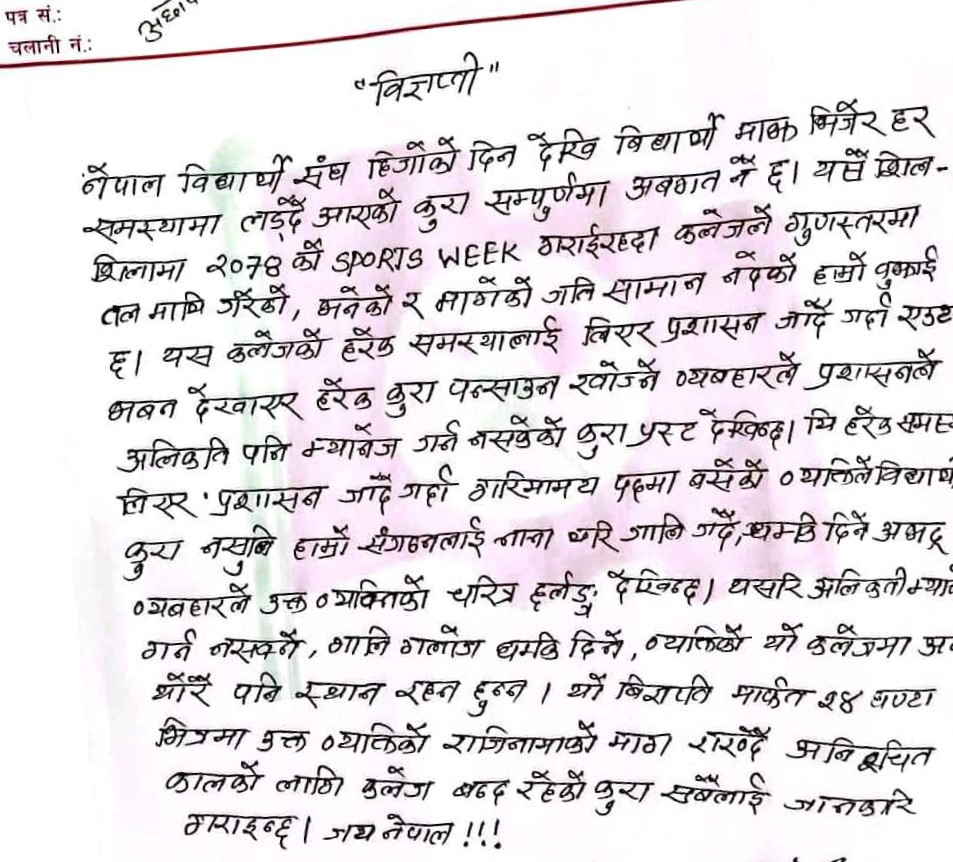text: (775, 453, 953, 494), (370, 47, 486, 106), (481, 170, 608, 223), (783, 199, 922, 247), (437, 719, 604, 757), (403, 319, 568, 357), (786, 735, 934, 775), (532, 219, 665, 262), (357, 515, 490, 558), (811, 346, 940, 389), (182, 379, 305, 424), (659, 768, 772, 815), (131, 580, 254, 623), (669, 352, 803, 391), (785, 785, 922, 823), (178, 151, 291, 195), (467, 467, 601, 504), (316, 572, 434, 613), (611, 111, 725, 153), (113, 436, 235, 475), (182, 810, 298, 851), (197, 522, 281, 577), (81, 210, 224, 242), (434, 273, 535, 318), (320, 719, 435, 758), (365, 133, 460, 180), (803, 621, 914, 661), (605, 563, 699, 609), (307, 187, 402, 232), (221, 325, 327, 365), (464, 413, 572, 452), (697, 405, 788, 451), (670, 206, 772, 247), (444, 370, 560, 405), (301, 422, 402, 462), (564, 357, 660, 398), (209, 625, 305, 665), (811, 563, 908, 602), (86, 252, 188, 289), (613, 670, 715, 707), (162, 759, 264, 796), (601, 268, 708, 303), (664, 309, 762, 347), (212, 482, 324, 515), (644, 622, 746, 658), (621, 170, 729, 203), (529, 569, 601, 618), (720, 247, 802, 290), (682, 453, 767, 494), (78, 163, 165, 203), (311, 280, 397, 320), (685, 722, 772, 761), (235, 192, 310, 237), (357, 764, 438, 805), (805, 98, 887, 138), (873, 244, 943, 290), (120, 534, 187, 582), (294, 676, 385, 711), (397, 623, 483, 660), (155, 715, 248, 749), (527, 124, 600, 167), (876, 514, 953, 554), (443, 571, 521, 610), (578, 310, 655, 349), (212, 284, 291, 322), (98, 392, 181, 428), (113, 486, 196, 522), (773, 295, 840, 338), (467, 675, 532, 719), (731, 673, 810, 709), (512, 769, 590, 805), (382, 810, 454, 849), (590, 775, 655, 818), (725, 570, 807, 603), (411, 190, 473, 233), (617, 508, 686, 546), (273, 763, 347, 798), (288, 522, 351, 563), (336, 471, 397, 513), (151, 671, 218, 709), (397, 465, 456, 508), (731, 111, 803, 146), (325, 624, 395, 660), (808, 248, 869, 289), (337, 324, 398, 365), (808, 146, 872, 185), (383, 377, 440, 420), (572, 418, 629, 461), (393, 675, 463, 710), (310, 376, 374, 414), (206, 251, 284, 282), (606, 724, 677, 758), (145, 290, 210, 327), (893, 294, 953, 334), (566, 624, 624, 665), (610, 468, 681, 501), (294, 152, 354, 190), (631, 417, 698, 451), (493, 629, 562, 662), (839, 292, 892, 334), (563, 518, 616, 560), (870, 147, 935, 181), (691, 503, 741, 547), (541, 271, 598, 309), (138, 627, 196, 664), (492, 522, 558, 554), (841, 400, 894, 439), (239, 429, 293, 467), (465, 139, 522, 173), (869, 685, 937, 713), (412, 419, 463, 456), (160, 338, 216, 371), (256, 587, 313, 618), (451, 776, 511, 805), (230, 671, 281, 705), (824, 509, 868, 547), (253, 727, 308, 757), (886, 104, 931, 138), (286, 239, 324, 279), (815, 685, 863, 716), (564, 671, 608, 704), (320, 819, 375, 845), (97, 299, 144, 328), (765, 621, 803, 656), (724, 153, 759, 189), (800, 406, 840, 437), (398, 285, 431, 319), (762, 156, 789, 196), (103, 346, 130, 380)
